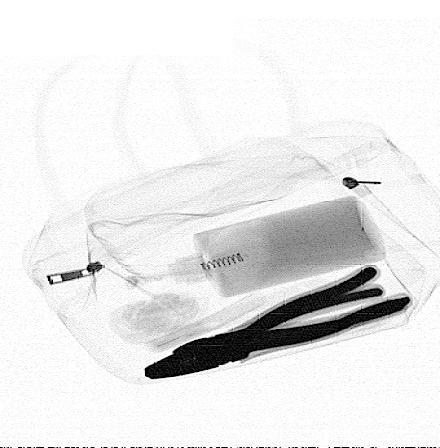Pliers: (140, 265, 415, 382), (172, 284, 396, 360)
